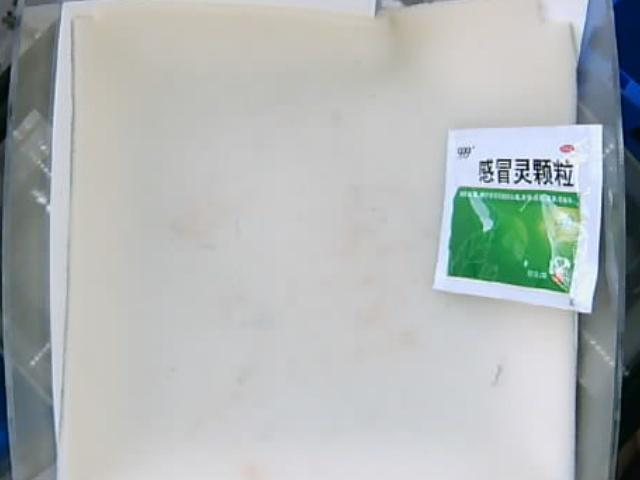Medicine: (428, 121, 607, 310)
